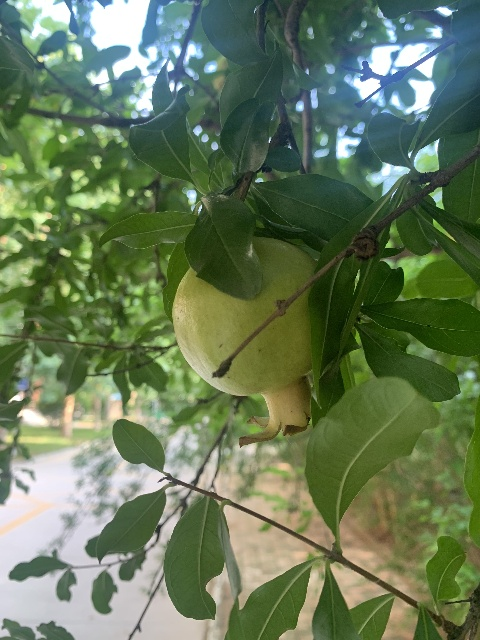mid-growth: (171, 236, 317, 449)
